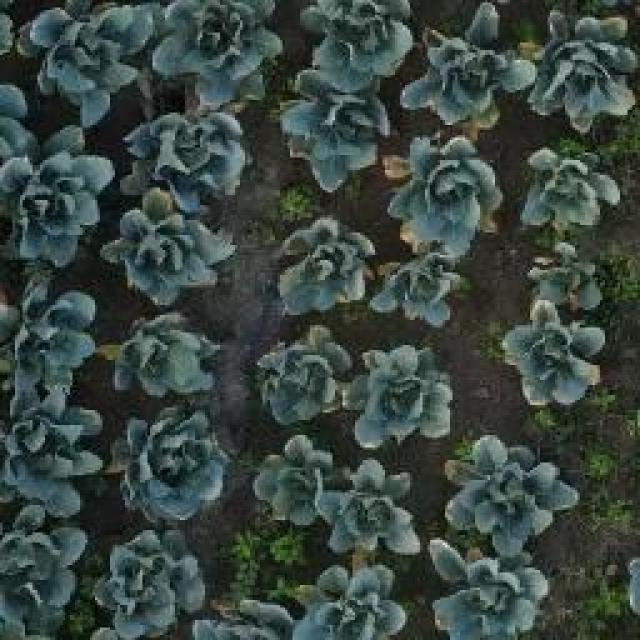cabbage: (0, 123, 112, 265), (451, 442, 576, 550), (530, 8, 637, 132), (0, 269, 98, 404), (278, 62, 390, 180), (26, 0, 148, 108), (390, 137, 502, 253), (412, 12, 522, 126), (0, 395, 105, 513), (117, 415, 228, 523), (159, 3, 277, 104), (430, 540, 551, 638), (108, 202, 232, 297), (500, 300, 600, 415), (100, 531, 206, 637), (0, 507, 82, 634), (126, 114, 251, 196), (347, 350, 453, 446), (111, 313, 223, 399), (323, 462, 419, 556), (290, 561, 404, 640), (516, 146, 620, 231), (300, 0, 412, 75), (280, 220, 368, 313), (264, 329, 348, 423), (368, 258, 464, 325), (256, 439, 328, 524), (529, 242, 604, 314)
